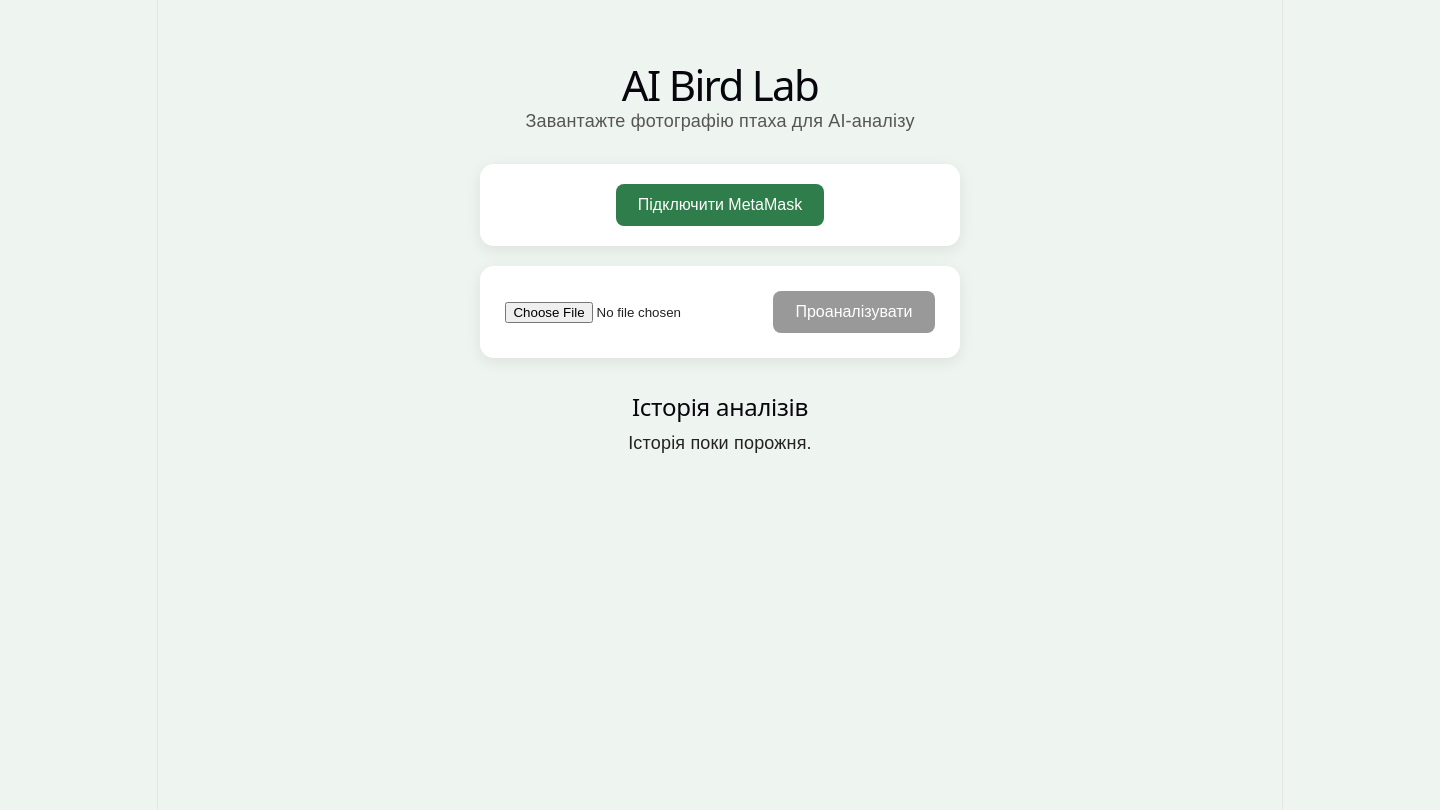
Test case: AI Bird Lab — Web Tests › Показує оплату для незареєстрованого гаманця
The image size is (1440, 810).
Click the button "Підключити MetaMask" at [720, 205], box left=616, top=184, right=824, bottom=226
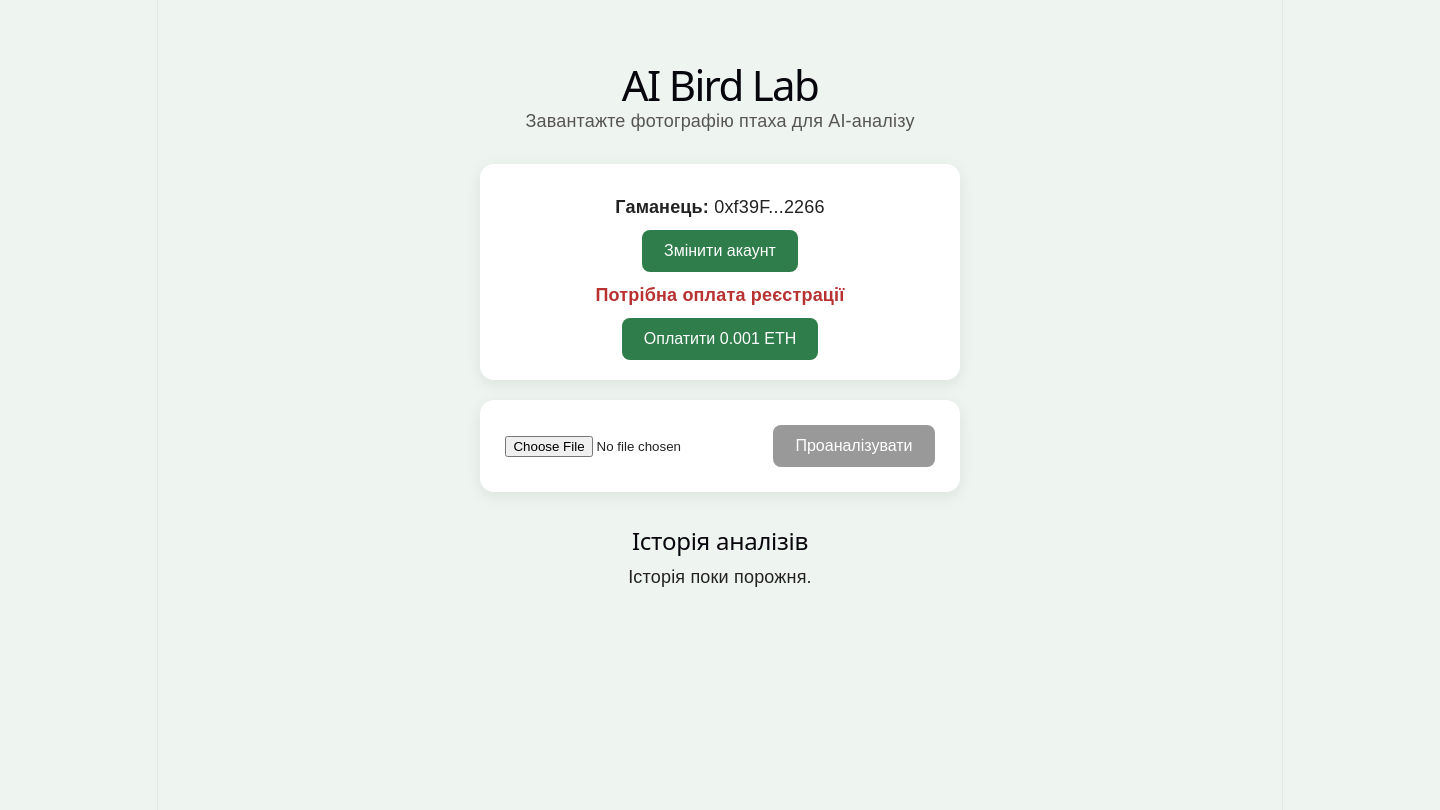
Check: the button "Оплатити 0.001 ETH" is shown, box left=622, top=318, right=818, bottom=360
